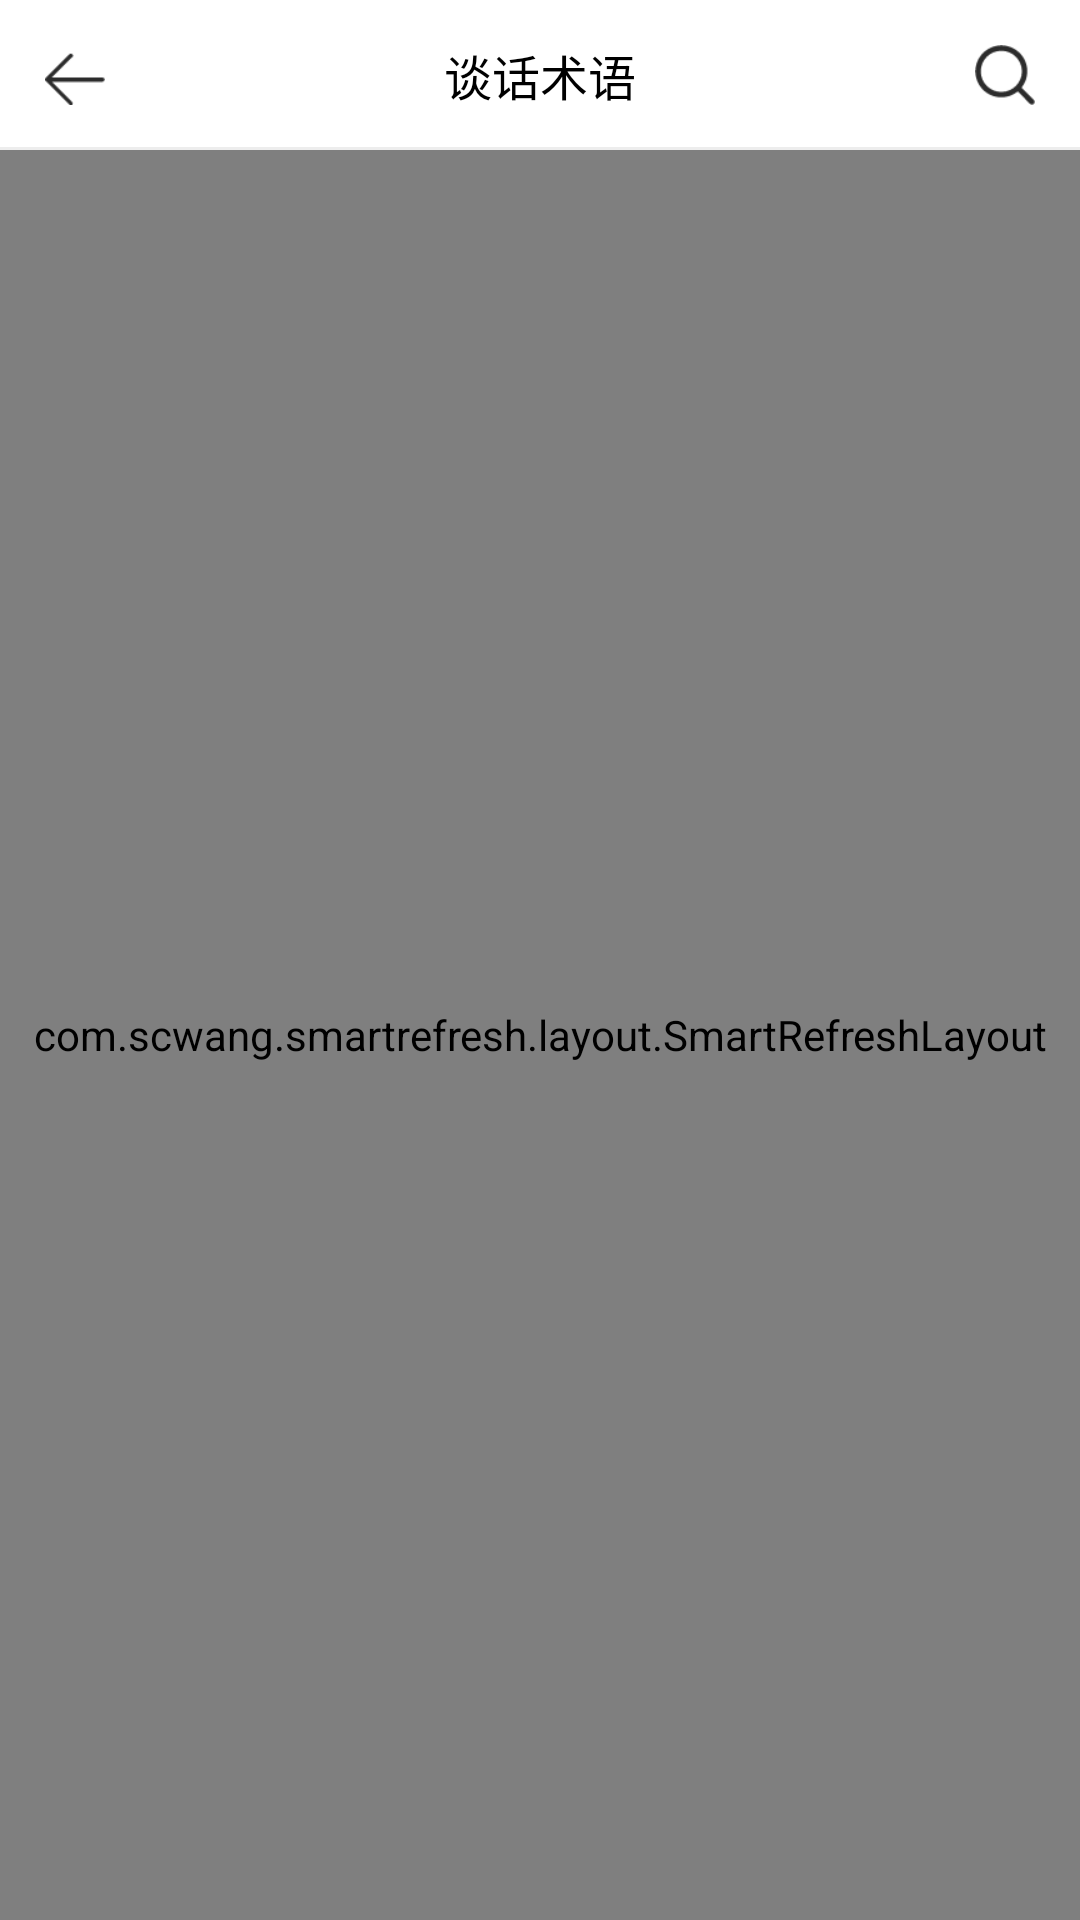

Icon bounding boxes for this 1080w x 1920h phone screenshot, format bbox(x1, y1, x2, y2):
back: bbox(45, 53, 105, 105)
search: bbox(975, 45, 1035, 105)
